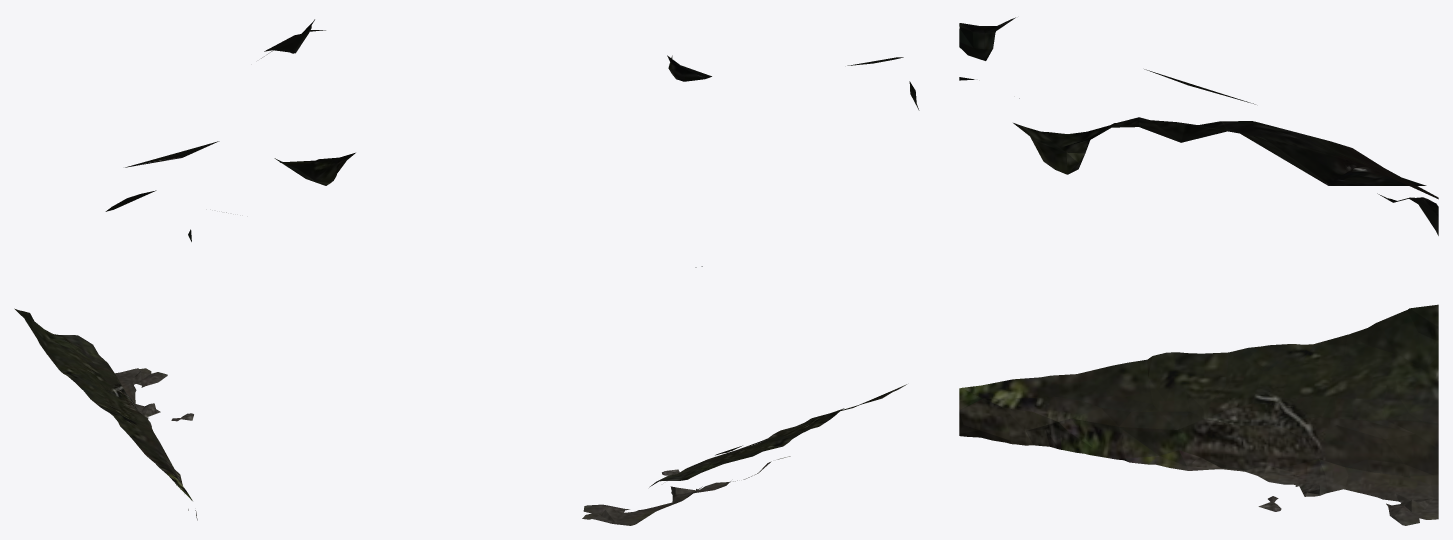
3 renders of one model, left to right at view 1: azimuth 30°, elevation 25°; view 2: azimuth 150°, elevation 25°; view 3: azimuth 270°, elevation 25°, orthographic. The views are drawn at different scales.
Bounding box in the file's own units: 1.67 × 1.67 × 1.67.
3 materials, 3 textured.
